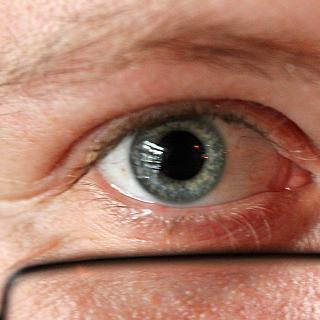iris: (132, 109, 228, 204)
